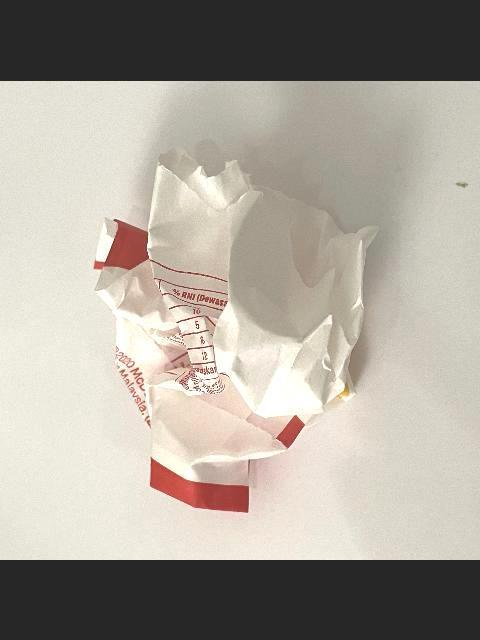paperbag: (93, 147, 381, 513)
